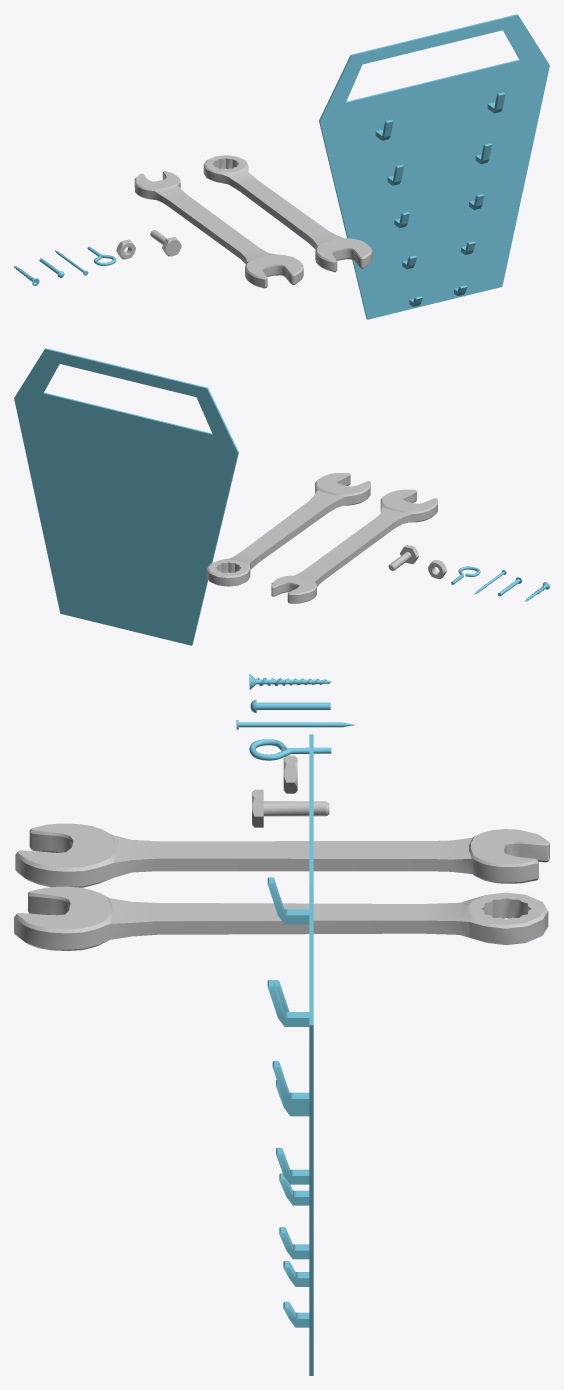
File: Wrench Bolt Nut.fbx
3 renders of one model, top to bottom at view 1: azimuth 30°, elevation 25°; view 2: azimuth 150°, elevation 25°; view 3: azimuth 270°, elevation 25°, orthographic. The views are drawn at different scales.
Parts seen in each view (by area): view 1: Box, wrench, wrench2, Bolt; view 2: Box, wrench2, wrench, Bolt; view 3: wrench2, wrench, Box, Bolt.
Boxes of the visible parts, x1,y1,x2,y2 form: Box: (319, 14, 549, 319); wrench: (203, 155, 372, 272); wrench2: (134, 171, 303, 288); Bolt: (150, 230, 181, 256); Box: (14, 348, 238, 645); wrench2: (271, 489, 437, 603); wrench: (206, 473, 370, 586); Bolt: (388, 545, 418, 570); wrench2: (15, 823, 549, 887); wrench: (14, 886, 548, 950); Box: (267, 734, 313, 1375); Bolt: (252, 789, 329, 827).
Bounding box in the file's own units: 71.29 × 34.22 × 33.01.
